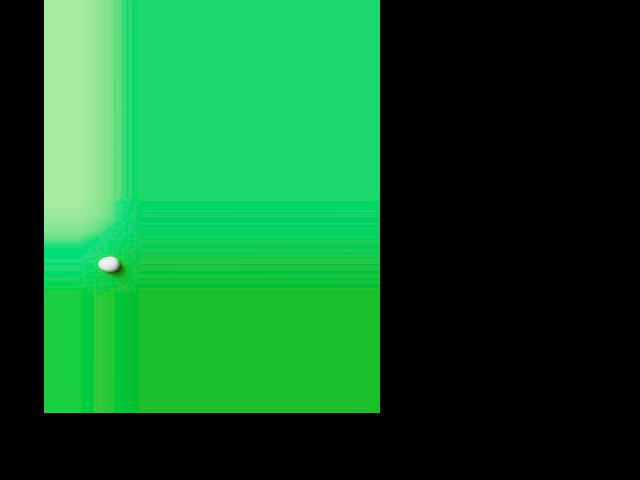egg: (98, 256, 119, 271)
